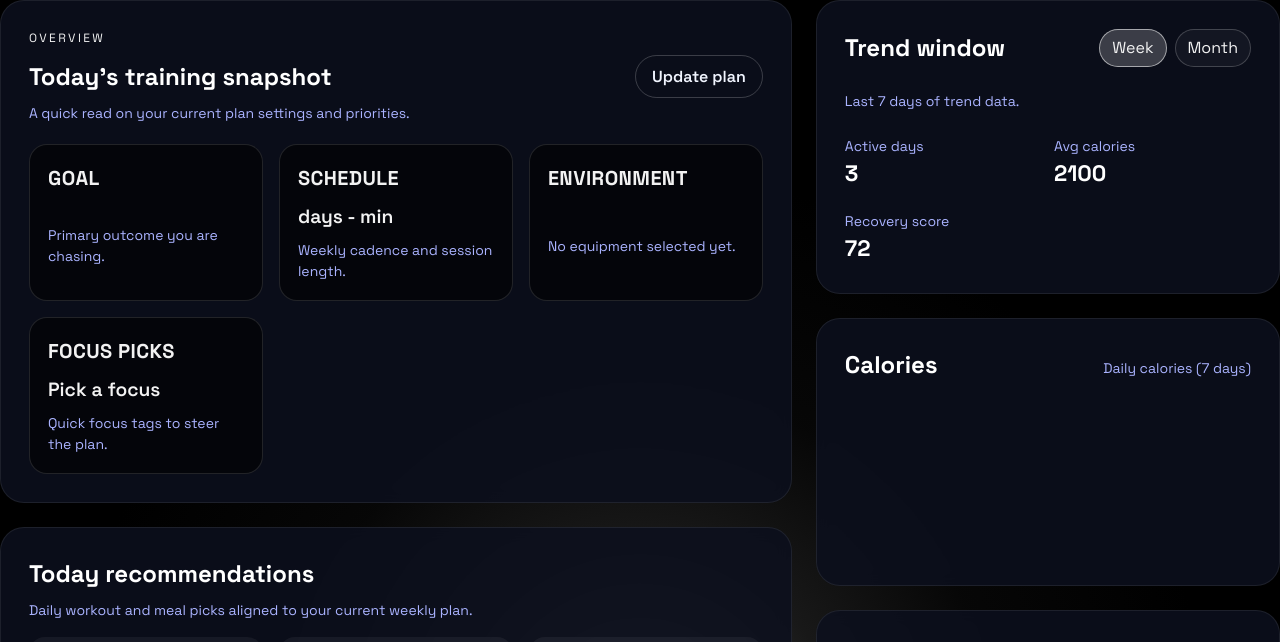
SummaryView › the trend range toggle › switching to the month swaps the figures and the copy
Click the button "Month": (1213, 48) [1174,29,1251,67]
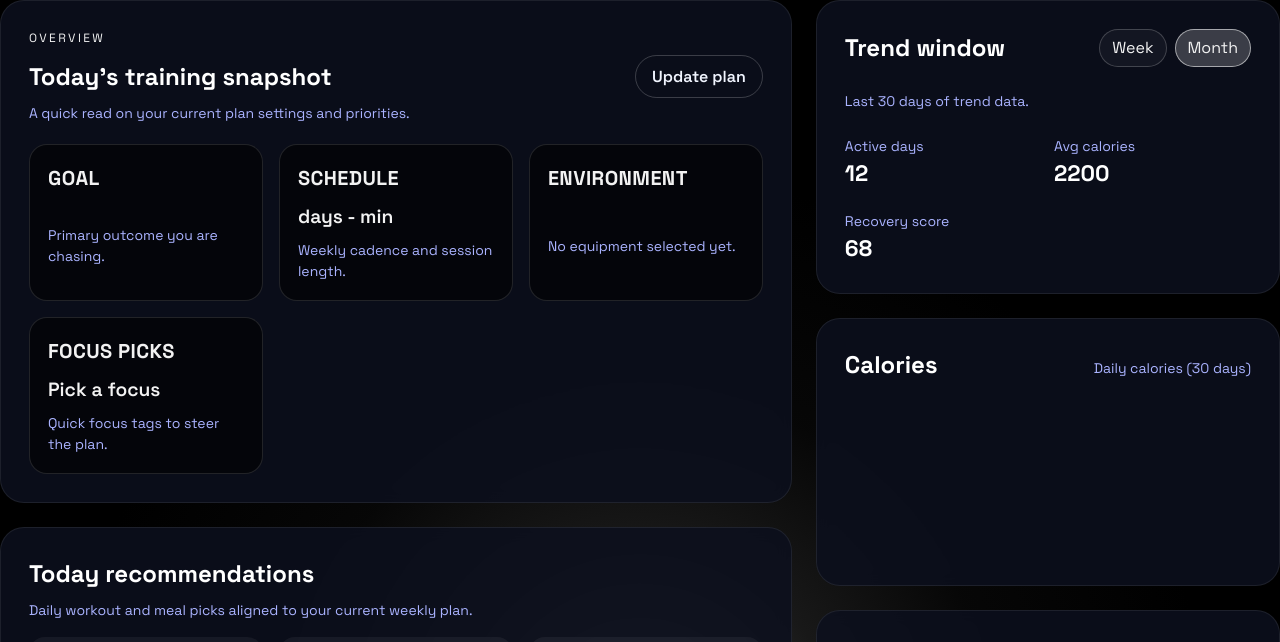
Now the text "Last 30 days of trend data." is shown, box [845,92,1029,110]
Now the heading "12" is shown, box [845,159,868,188]
